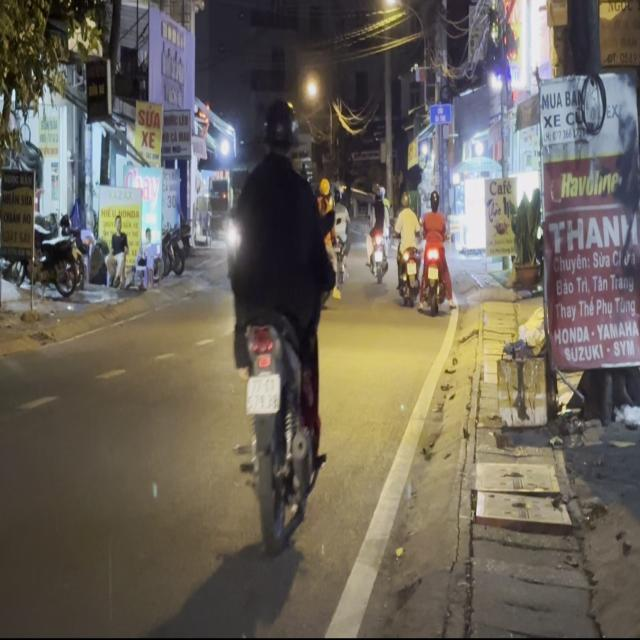helmet: (260, 93, 296, 160)
licenseplate: (224, 89, 336, 558)
nohelmet: (245, 373, 279, 412)
